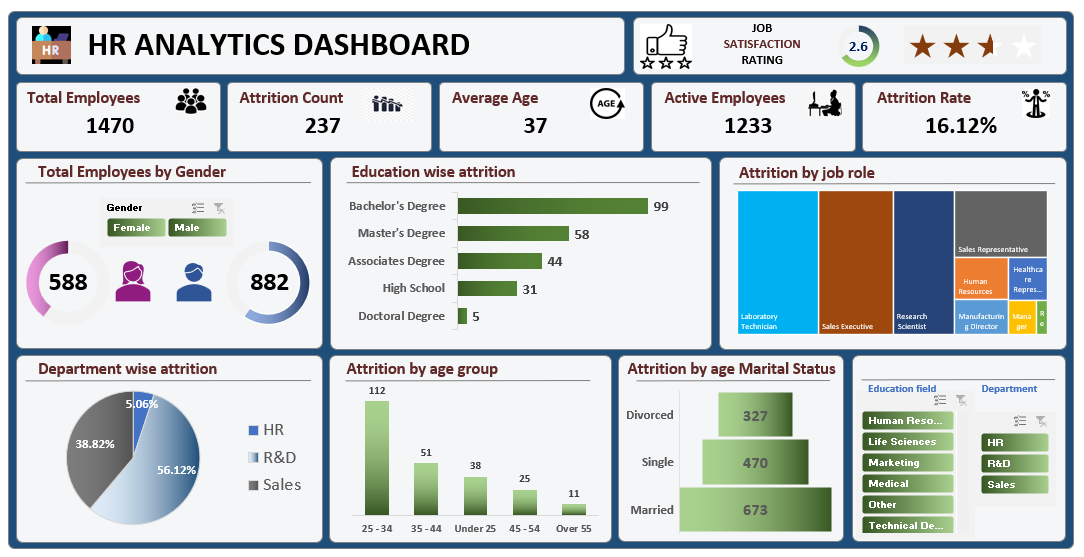

This screenshot's page, from the dashboard's own definition file:
{"tool":"powerbi","page":{"name":"Page 1","canvas":[1280,720],"ordinal":0},"visuals":[{"type":"card","title":"Overall Employees","fields":{"Values":["Sum(HR Data xlsx - HR data.Employee Count)"]},"box":[6.7,76.9,240.3,80.1],"z":0},{"type":"card","title":"Attrition","fields":{"Values":["Sum(HR Data xlsx - HR data.Attrition Count)"]},"box":[259.4,76.9,240.3,80.1],"z":1000},{"type":"card","title":"Attrition Rate","fields":{"Values":["HR Data xlsx - HR data.Attrition Rate"]},"box":[510.3,76.9,240.3,80.1],"z":2000},{"type":"card","title":"Active Employees","fields":{"Values":["HR Data xlsx - HR data.Active Employees"]},"box":[770.2,76.9,240.3,81.9],"z":3000},{"type":"card","title":"Average Age","fields":{"Values":["Avg(HR Data xlsx - HR data.Age)"]},"box":[1022.9,76.9,240.3,80.1],"z":4000},{"type":"pieChart","title":"Department Wise Attrition","fields":{"Category":["HR Data xlsx - HR data.Department"],"Y":["Sum(HR Data xlsx - HR data.Attrition Count)"]},"box":[7.6,162,384.4,307.9],"z":5000},{"type":"columnChart","title":"No. of Employees by Age Group","fields":{"Category":["HR Data xlsx - HR data.CF_age band"],"Y":["Sum(HR Data xlsx - HR data.Employee Count)"],"Series":["HR Data xlsx - HR data.Gender"]},"box":[401,162,384.4,307.9],"z":6000},{"type":"pivotTable","title":"Job Satisfaction","fields":{"Rows":["HR Data xlsx - HR data.Job Role"],"Columns":["HR Data xlsx - HR data.Job Satisfaction"],"Values":["Sum(HR Data xlsx - HR data.Employee Count)"]},"box":[797.8,162,466.3,307.9],"z":7000},{"type":"clusteredBarChart","title":"Education Field Wise Attrition","fields":{"Category":["HR Data xlsx - HR data.Education Field"],"Y":["Sum(HR Data xlsx - HR data.Attrition Count)"]},"box":[7.1,475.2,347.1,229.6],"z":8000},{"type":"donutChart","title":"Under 25","fields":{"Category":["HR Data xlsx - HR data.Gender"],"Y":["Sum(HR Data xlsx - HR data.Attrition Count)"],"Series":["HR Data xlsx - HR data.CF_age band"]},"box":[366.5,506.4,179,200.5],"z":9000},{"type":"textbox","title":"Attrition Rate by Gender for Different Age Groups","box":[366.5,474.7,894.5,31.7],"z":10000},{"type":"donutChart","title":"25 - 34","fields":{"Category":["HR Data xlsx - HR data.Gender"],"Y":["Sum(HR Data xlsx - HR data.Attrition Count)"],"Series":["HR Data xlsx - HR data.CF_age band"]},"box":[545.4,506.4,178.9,200.5],"z":11000},{"type":"donutChart","title":"35 - 44","fields":{"Category":["HR Data xlsx - HR data.Gender"],"Y":["Sum(HR Data xlsx - HR data.Attrition Count)"],"Series":["HR Data xlsx - HR data.CF_age band"]},"box":[724.3,506.4,178.9,200.5],"z":12000},{"type":"donutChart","title":"45 - 54","fields":{"Category":["HR Data xlsx - HR data.Gender"],"Y":["Sum(HR Data xlsx - HR data.Attrition Count)"],"Series":["HR Data xlsx - HR data.CF_age band"]},"box":[903.2,506.4,178.9,200.5],"z":13000},{"type":"donutChart","title":"Above 55","fields":{"Category":["HR Data xlsx - HR data.Gender"],"Y":["Sum(HR Data xlsx - HR data.Attrition Count)"],"Series":["HR Data xlsx - HR data.CF_age band"]},"box":[1082.1,506.4,178.9,200.5],"z":14000},{"type":"card","fields":{"Values":["Sum(HR Data xlsx - HR data.Attrition Count)"]},"box":[425.4,590.9,60.5,49.8],"z":15000},{"type":"card","fields":{"Values":["Sum(HR Data xlsx - HR data.Attrition Count)"]},"box":[601.6,590.9,60.5,49.8],"z":16000},{"type":"card","fields":{"Values":["Sum(HR Data xlsx - HR data.Attrition Count)"]},"box":[783.1,590.9,60.5,49.8],"z":17000},{"type":"card","fields":{"Values":["Sum(HR Data xlsx - HR data.Attrition Count)"]},"box":[1140.8,590.9,60.5,49.8],"z":18000},{"type":"card","fields":{"Values":["Sum(HR Data xlsx - HR data.Attrition Count)"]},"box":[962.9,590.9,60.5,49.8],"z":19000},{"type":"textbox","title":"HR ANALYTICS DASHBOARD","box":[7.2,7.2,623.3,51.9],"z":20000},{"type":"slicer","fields":{"Values":["HR Data xlsx - HR data.Education"]},"box":[630.5,7.2,630.5,51.9],"z":21000}]}

Visuals, with their boxes on the page's 1280x720 design canvas (x1, y1, x2, y2). These are canvas units, not pixel positions in the 1084x557 screenshot, which may show the page scaled, cropped or inside an application window:
"Overall Employees" card: 7:77:247:157
"Attrition" card: 259:77:500:157
"Attrition Rate" card: 510:77:751:157
"Active Employees" card: 770:77:1010:159
"Average Age" card: 1023:77:1263:157
"Department Wise Attrition" pieChart: 8:162:392:470
"No. of Employees by Age Group" columnChart: 401:162:785:470
"Job Satisfaction" pivotTable: 798:162:1264:470
"Education Field Wise Attrition" clusteredBarChart: 7:475:354:705
"Under 25" donutChart: 366:506:546:707
"Attrition Rate by Gender for Different Age Groups" textbox: 366:475:1261:506
"25 - 34" donutChart: 545:506:724:707
"35 - 44" donutChart: 724:506:903:707
"45 - 54" donutChart: 903:506:1082:707
"Above 55" donutChart: 1082:506:1261:707
card - Sum(HR Data xlsx - HR data.Attrition Count): 425:591:486:641
card - Sum(HR Data xlsx - HR data.Attrition Count): 602:591:662:641
card - Sum(HR Data xlsx - HR data.Attrition Count): 783:591:844:641
card - Sum(HR Data xlsx - HR data.Attrition Count): 1141:591:1201:641
card - Sum(HR Data xlsx - HR data.Attrition Count): 963:591:1023:641
"HR ANALYTICS DASHBOARD" textbox: 7:7:630:59
slicer - HR Data xlsx - HR data.Education: 630:7:1261:59
